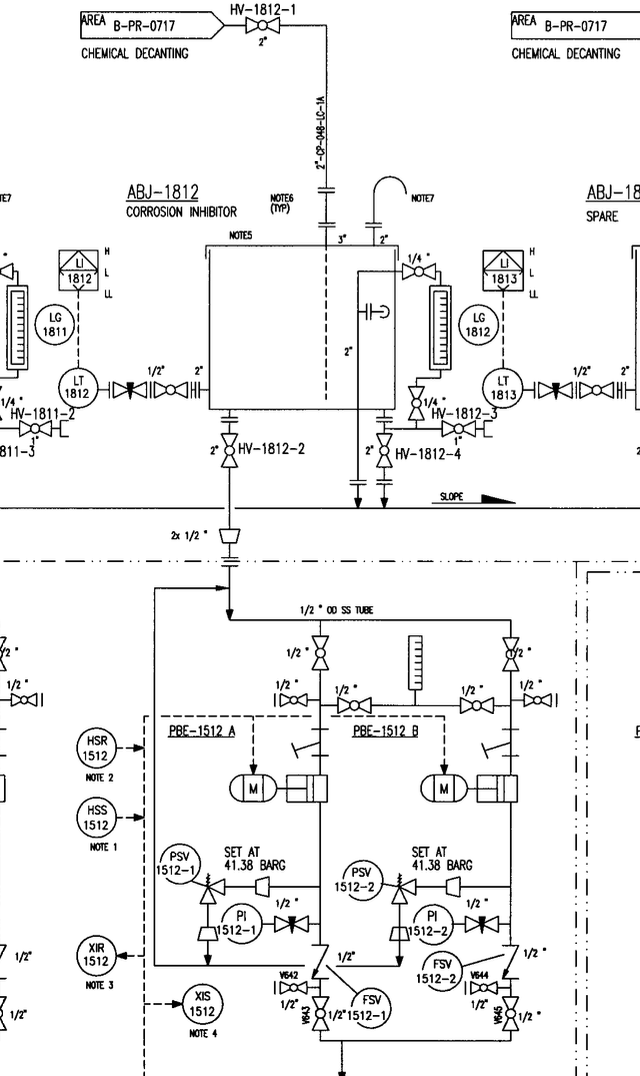Instrument: (475, 358, 525, 415), (54, 362, 104, 414), (452, 299, 503, 349), (71, 929, 118, 978), (31, 301, 76, 350), (179, 983, 228, 1027), (75, 791, 116, 843), (76, 726, 120, 771)
Instrument-offset: (341, 981, 399, 1031), (153, 838, 205, 888), (411, 949, 464, 998), (216, 899, 264, 947), (334, 856, 386, 900), (409, 902, 456, 944)
Instrument-square: (474, 239, 526, 296), (49, 240, 101, 296)
